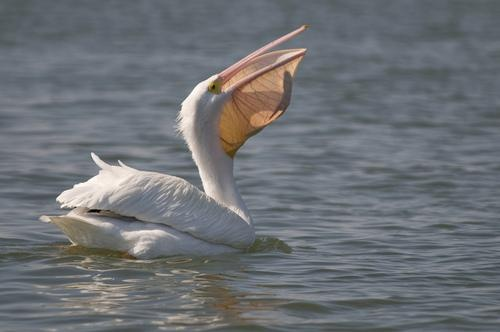bird: (38, 22, 314, 258)
